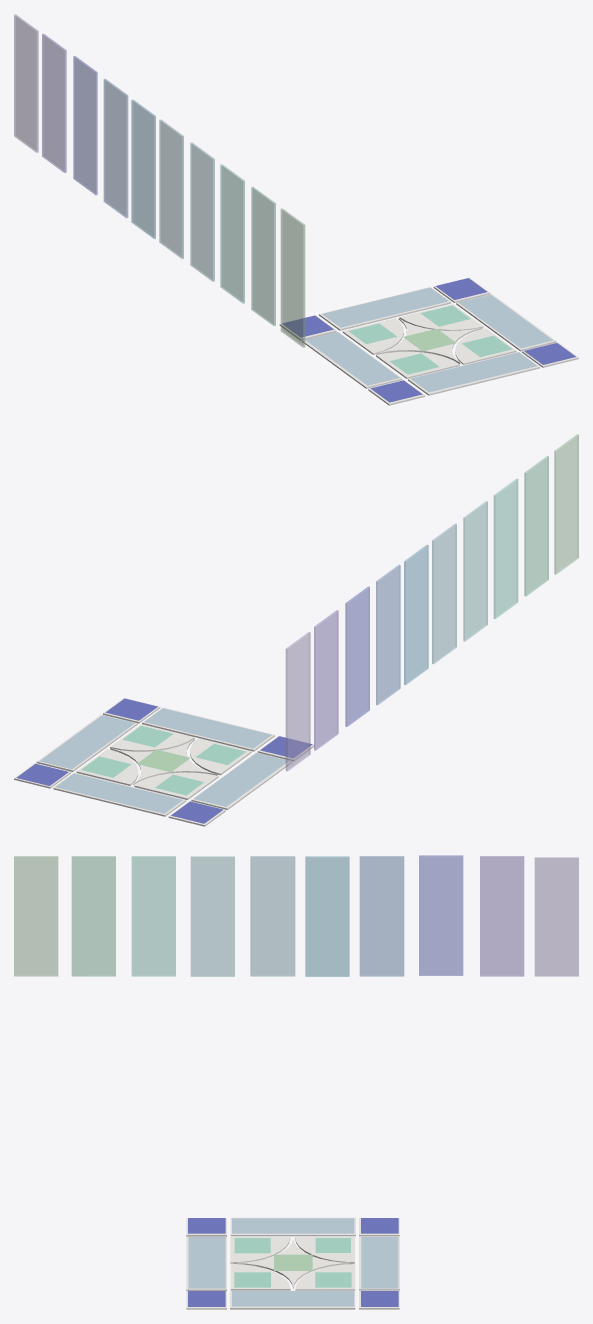
Rendered from colorPicker.glb.
3 views of the same model, one above another, from view 1: azimuth 30°, elevation 25°; view 2: azimuth 150°, elevation 25°; view 3: azimuth 270°, elevation 25° (orthographic). The views are drawn at different scales.
Parts seen in each view (by area): view 1: verreVert02A, verreBleu04A, verreBleu02A, verreVert03A, verreBleu03A, verreJaune01A, verreVert01A, verreBleu01A, verreBleu05A, verreJaune02A, couleurRectangle12, couleurRectangle13 (+20 smaller); view 2: verreVert03A, verreJaune02A, verreBleu02A, verreBleu01A, verreJaune01A, verreVert01A, verreVert02A, verreBleu04A, verreBleu05A, verreBleu03A, couleurRectangle12, couleurRectangle13 (+20 smaller); view 3: verreBleu02A, verreBleu04A, verreBleu03A, verreVert03A, verreJaune01A, verreVert01A, verreBleu05A, verreBleu01A, verreVert02A, verreJaune02A, couleurRectangle12, couleurRectangle13 (+16 smaller).
Part boxes in pixels (x1,y1,x2,y2): verreVert02A: (280,208,305,347); verreBleu04A: (103,79,128,218); verreBleu02A: (159,119,183,259); verreVert03A: (220,164,244,303); verreBleu03A: (131,99,155,238); verreJaune01A: (42,33,66,172); verreVert01A: (251,187,275,326); verreBleu01A: (190,142,214,281); verreBleu05A: (73,56,97,195); verreJaune02A: (14,14,38,152); couleurRectangle12: (410,352,536,392); couleurRectangle13: (322,287,448,327); verreVert03A: (493,478,518,618); verreJaune02A: (285,632,310,771); verreBleu02A: (432,523,456,664); verreBleu01A: (463,501,487,641); verreJaune01A: (314,610,338,750); verreVert01A: (524,456,548,596); verreVert02A: (554,434,578,574); verreBleu04A: (376,565,400,705); verreBleu05A: (345,586,369,726); verreBleu03A: (404,544,428,684); couleurRectangle12: (144,708,271,748); couleurRectangle13: (55,773,182,813); verreBleu02A: (250,856,295,976); verreBleu04A: (359,856,404,976); verreBleu03A: (305,856,349,976); verreVert03A: (131,856,175,976); verreJaune01A: (480,856,524,976); verreVert01A: (71,856,115,976); verreBleu05A: (419,855,463,975); verreBleu01A: (190,856,234,976); verreVert02A: (14,856,58,976); verreJaune02A: (534,857,578,976); couleurRectangle12: (188,1237,225,1288); couleurRectangle13: (361,1237,398,1288).
Size of the model in its own units: 0.8066 by 0.6102 by 1.11.
